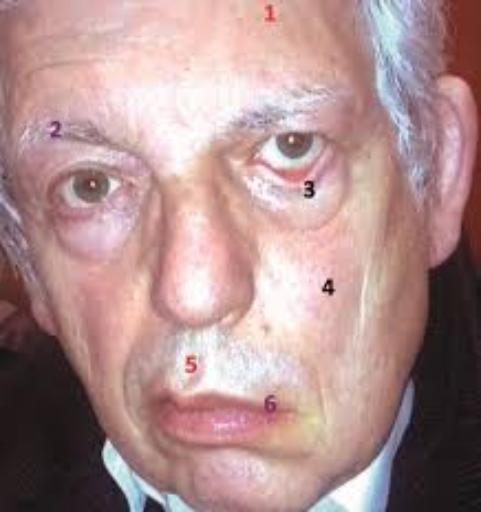left_eye: (240, 125, 355, 183)
left_lip_corner: (260, 403, 302, 428)
right_eye: (48, 170, 138, 217)
right_lip_corner: (142, 391, 168, 418)
